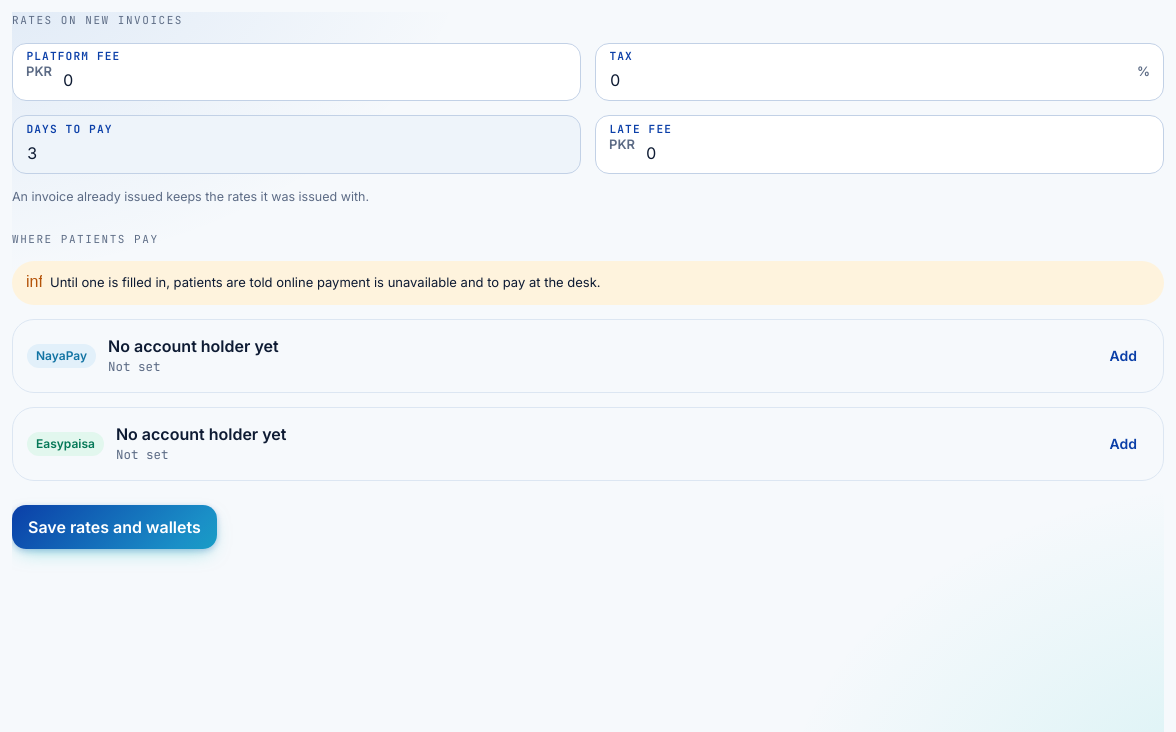
Test: what somebody is allowed to type › refuses a share of a bill larger than the bill
Replace the text in the field labelled "Tax" with "150". click: (880, 72)
box: [595,42,1164,101]
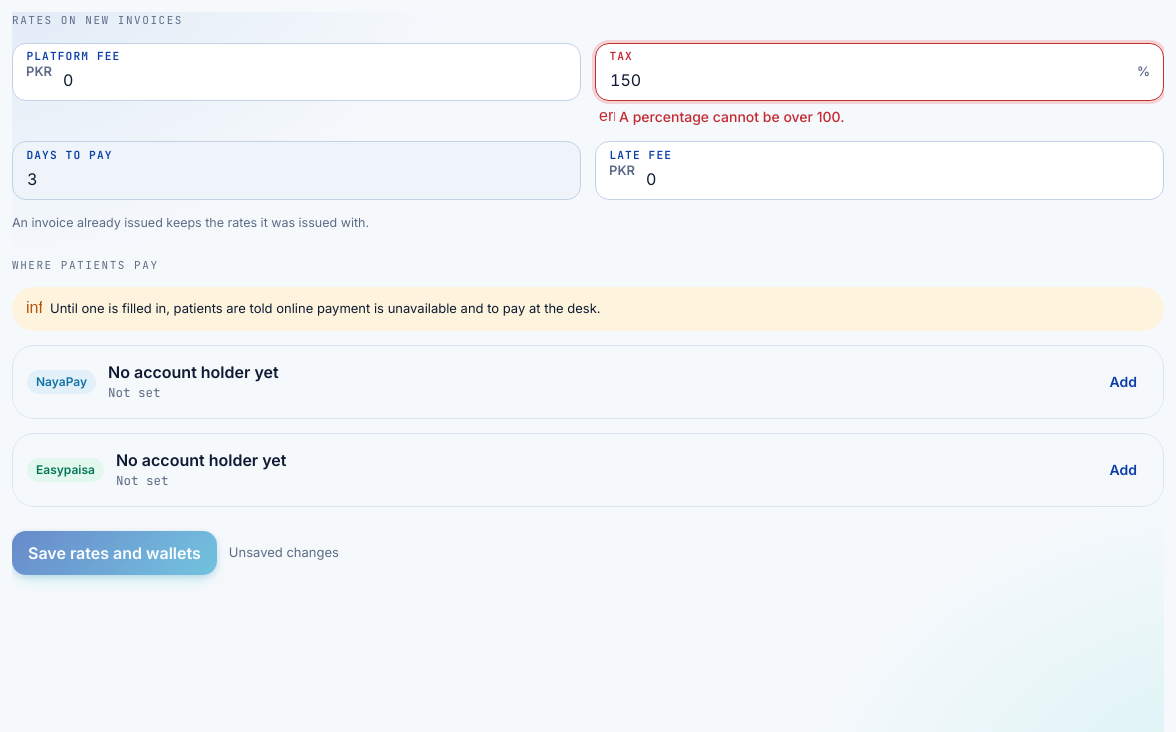
Expected: the button "Save rates and wallets" is disabled, [12,531,217,575]
Expected: the text "A percentage cannot be over 100." is shown, [599,107,844,125]
